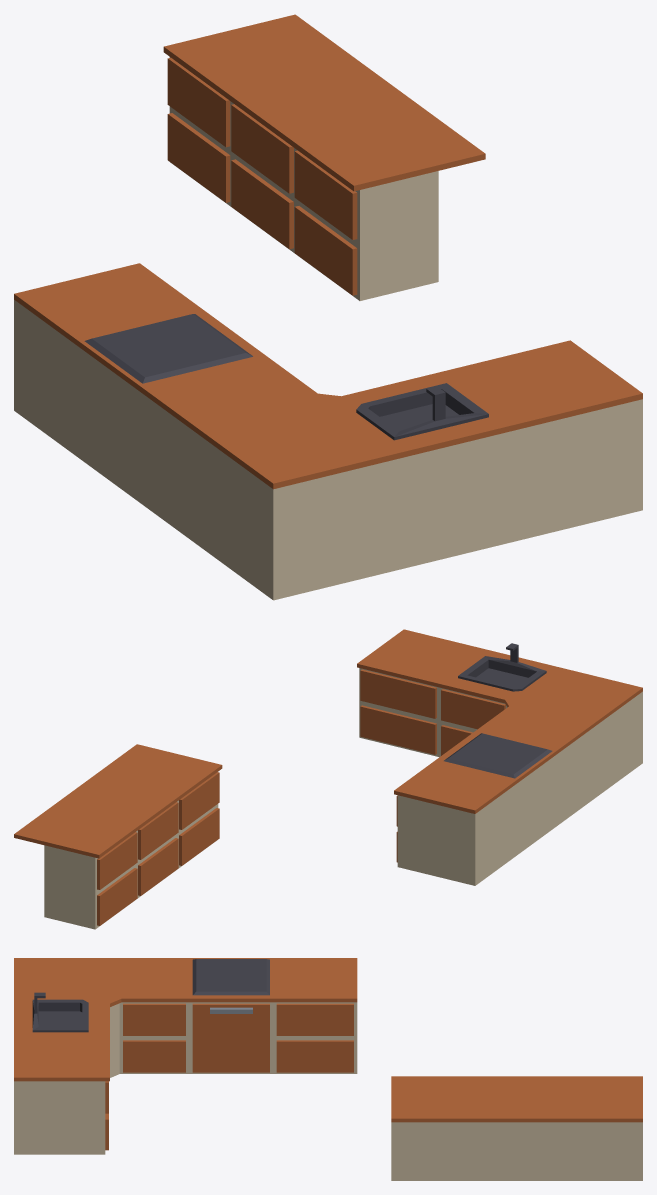
File: MP_Environ_Kitchen_Counter.fbx
3 views of the same model, one above another, from view 1: azimuth 30°, elevation 25°; view 2: azimuth 150°, elevation 25°; view 3: azimuth 270°, elevation 25° (orthographic). The views are drawn at different scales.
Visible parts, largest first — view 1: Kitchen_Counter, Island; view 2: Kitchen_Counter, Island; view 3: Kitchen_Counter, Island.
Boxes of the visible parts, x1,y1,x2,y2 form: Kitchen_Counter: (14, 263, 642, 600); Island: (163, 14, 485, 300); Kitchen_Counter: (357, 629, 642, 885); Island: (14, 744, 222, 929); Kitchen_Counter: (14, 958, 357, 1154); Island: (391, 1076, 642, 1180).
Size of the model in its own units: 275 by 79.79 by 455.
